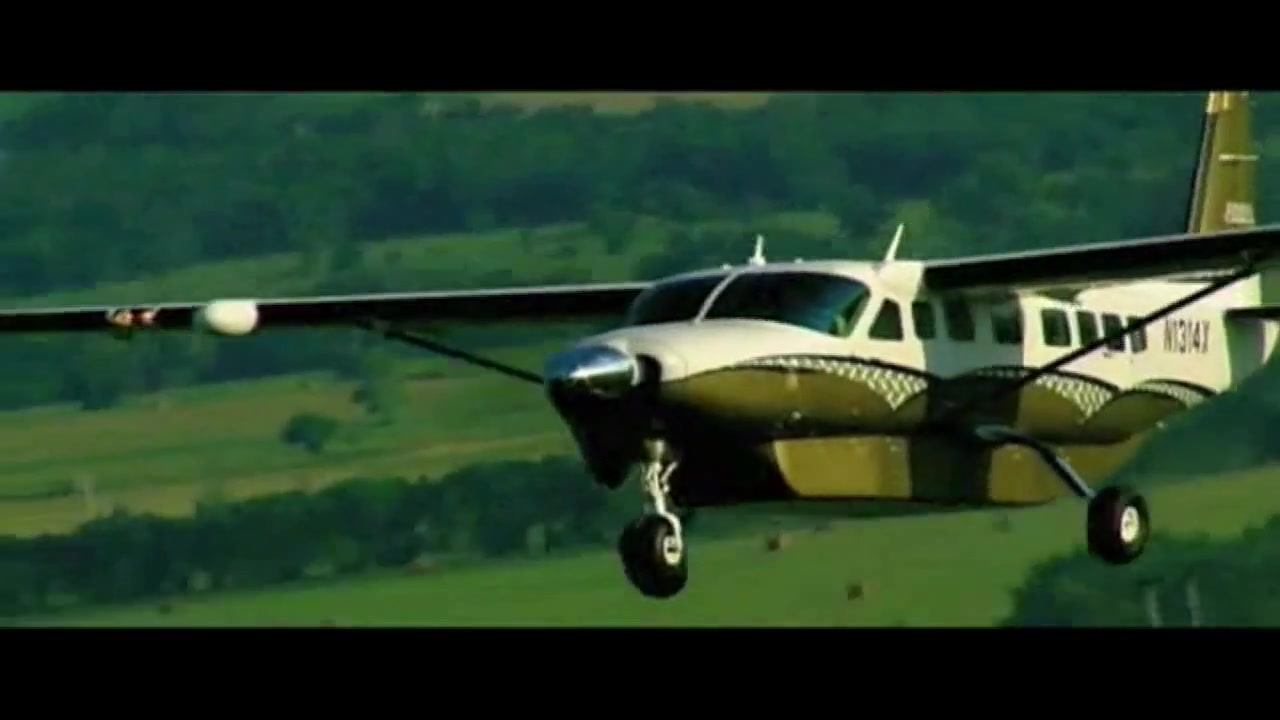aeroplane: (1, 93, 1280, 599)
